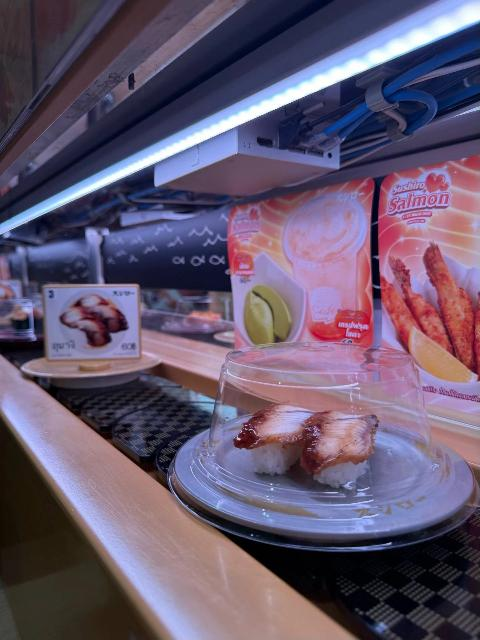janwhite: (183, 416, 475, 565)
